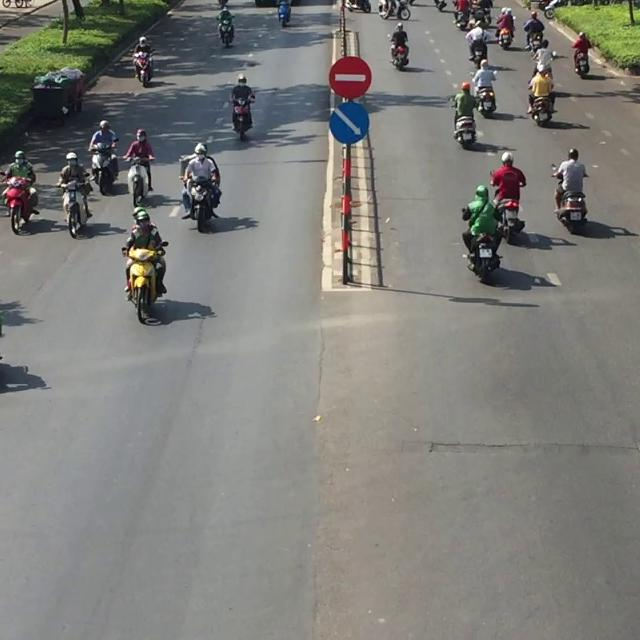Motorcycle: (121, 240, 168, 325), (460, 205, 503, 280), (180, 164, 220, 232), (489, 170, 526, 243), (550, 163, 588, 234), (55, 174, 93, 238), (0, 173, 39, 235), (122, 154, 154, 207), (88, 141, 118, 195), (450, 97, 478, 147), (229, 91, 255, 140), (527, 85, 556, 126), (131, 47, 154, 87), (386, 33, 409, 71), (477, 74, 496, 117), (216, 14, 235, 48)
